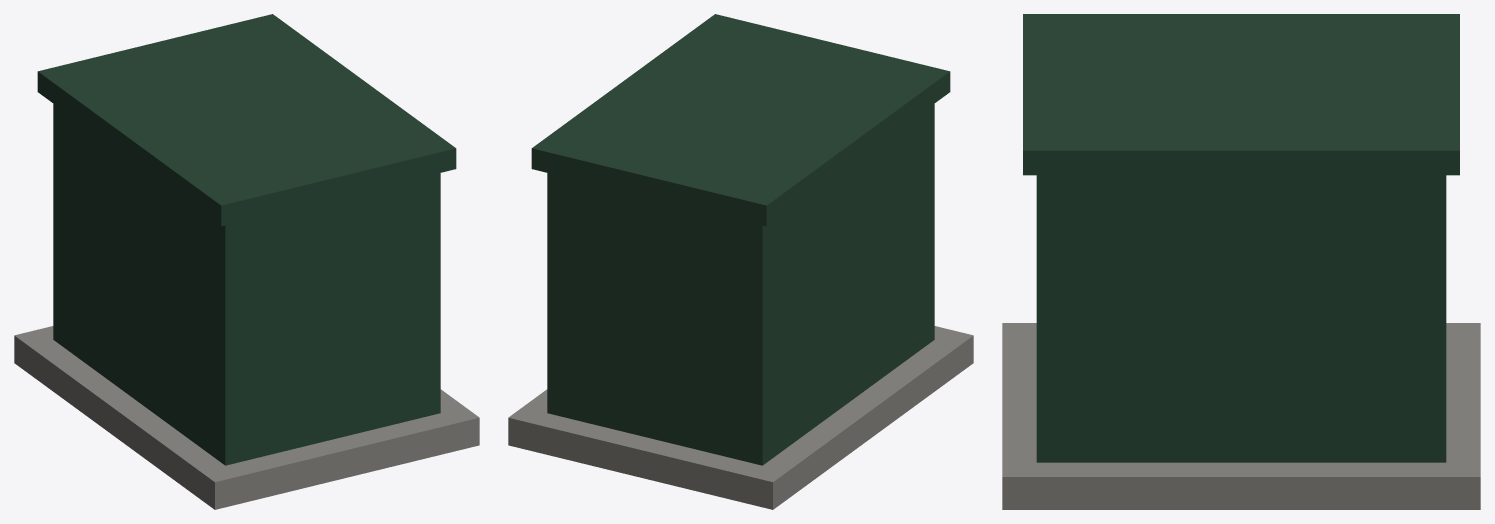
The model's file is SM_Prop_power_kiosk_1_LOD2.glb.
3 renders of one model, left to right at view 1: azimuth 30°, elevation 25°; view 2: azimuth 150°, elevation 25°; view 3: azimuth 270°, elevation 25°, orthographic. The views are drawn at different scales.
Visible parts, largest first — view 1: SM_Prop_power_kiosk_1_LOD2; view 2: SM_Prop_power_kiosk_1_LOD2; view 3: SM_Prop_power_kiosk_1_LOD2.
Boxes of the visible parts, left/top/right/bottom form: SM_Prop_power_kiosk_1_LOD2: left=14, top=14, right=479, bottom=509; SM_Prop_power_kiosk_1_LOD2: left=508, top=14, right=973, bottom=509; SM_Prop_power_kiosk_1_LOD2: left=1002, top=14, right=1480, bottom=509.
Size of the model in its own units: 1.6 by 1.7 by 2.1.
